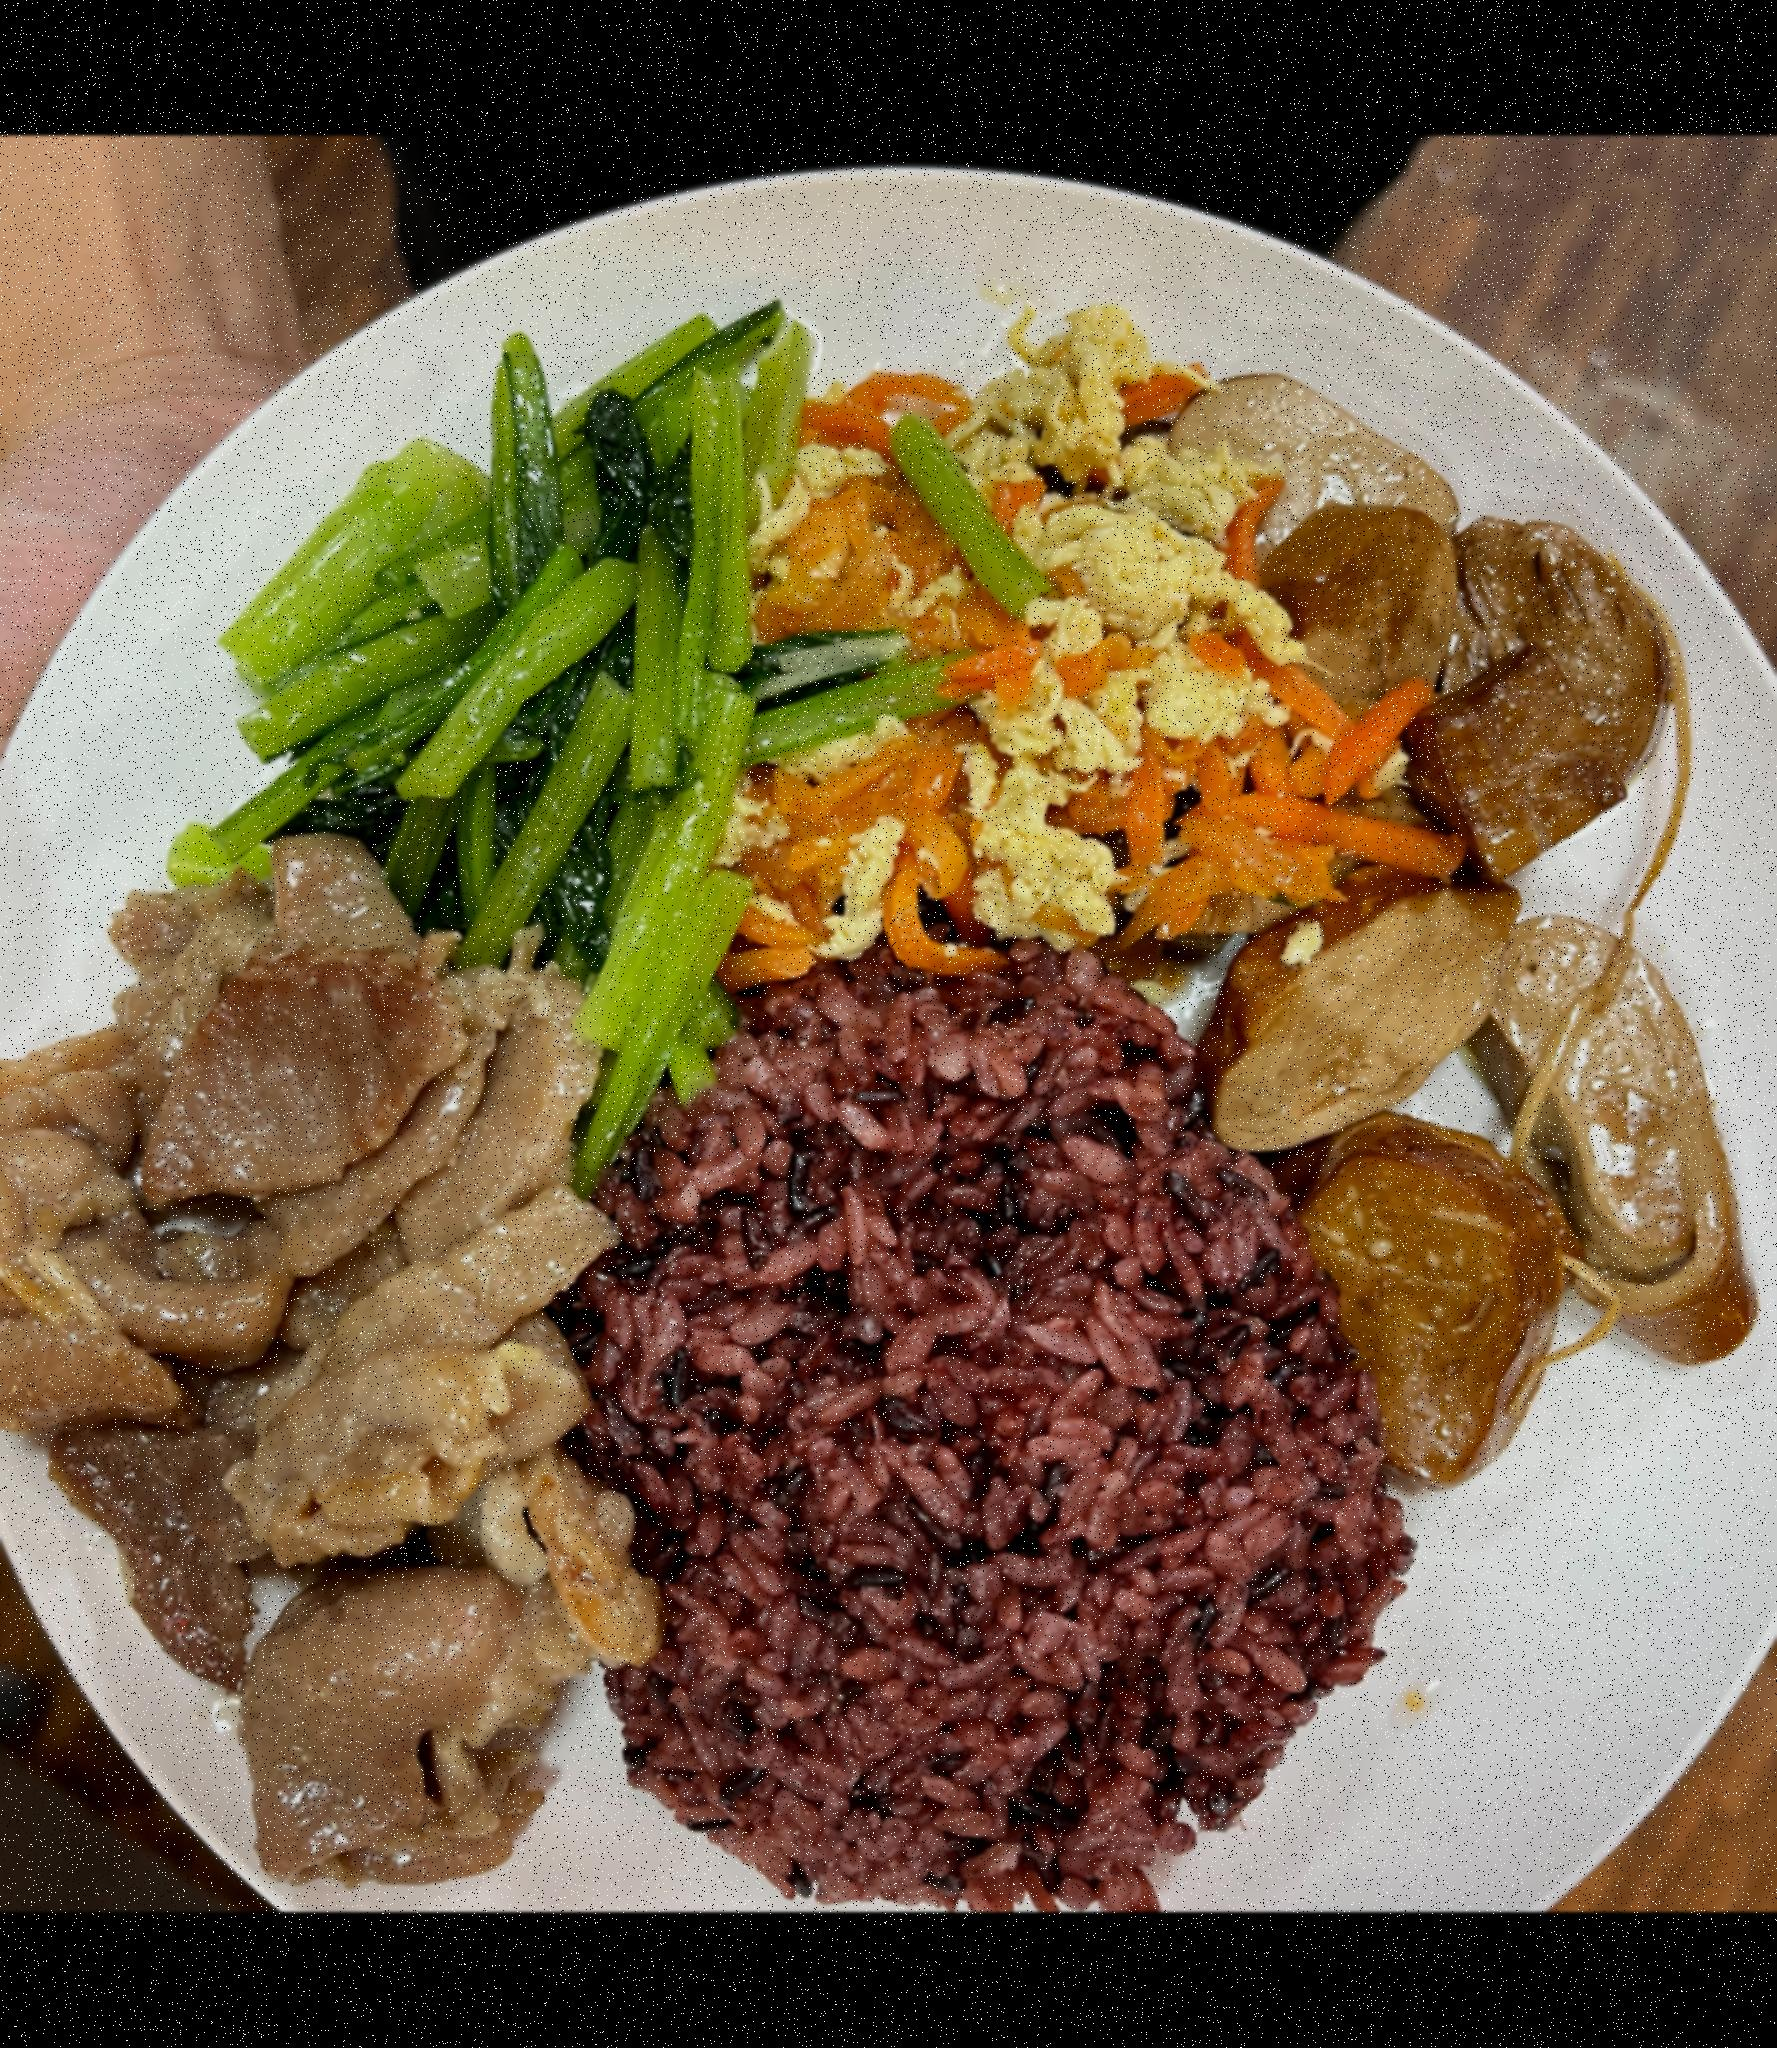plate: (0, 136, 1777, 1905)
purple rice: (589, 918, 1448, 1870)
sauteed pork: (0, 852, 678, 1856)
side dish: (1221, 503, 1777, 1423), (254, 289, 812, 1015), (725, 366, 1364, 973)
